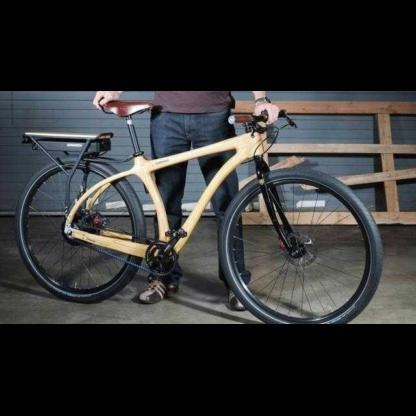Bicycle: (4, 89, 389, 326)
